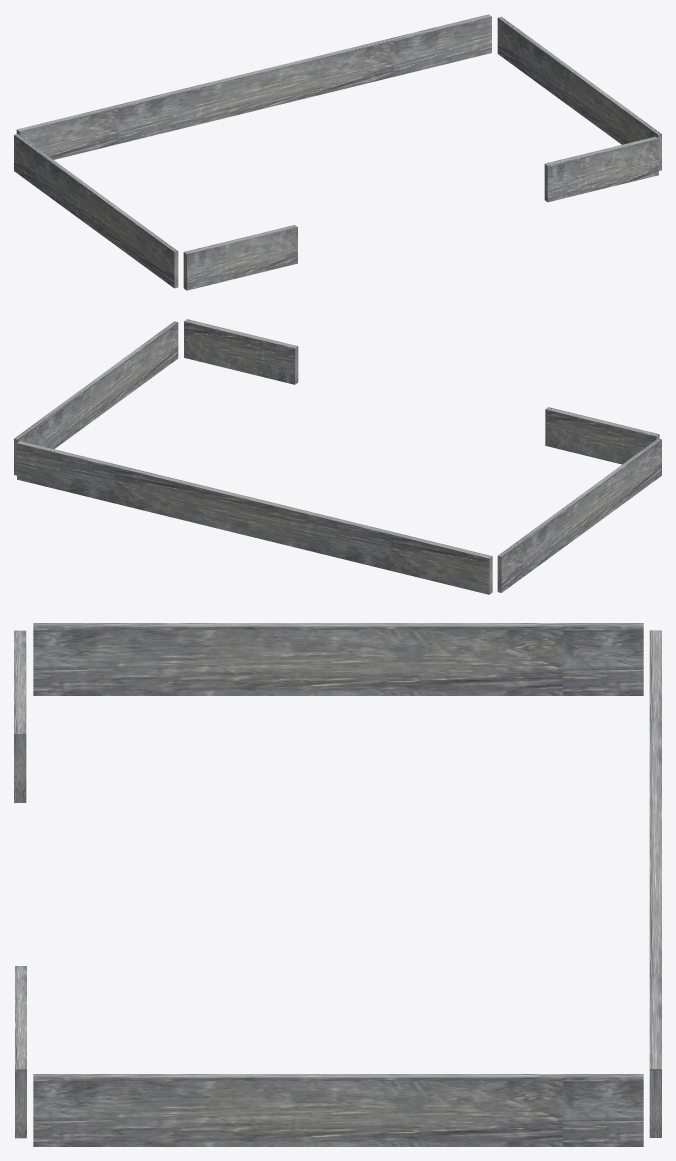
The model's file is vidrio2.obj.
3 views of the same model, one above another, from view 1: azimuth 30°, elevation 25°; view 2: azimuth 150°, elevation 25°; view 3: azimuth 270°, elevation 25° (orthographic). The views are drawn at different scales.
Visible parts, largest first — view 1: pasted__pCube2; view 2: pasted__pCube2; view 3: pasted__pCube2.
Part boxes in pixels (x1=…): pasted__pCube2: x1=14, y1=14, x2=661, y2=290; pasted__pCube2: x1=14, y1=319, x2=661, y2=594; pasted__pCube2: x1=14, y1=623, x2=661, y2=1146.
Size of the model in its own units: 176 by 12.81 by 106.
